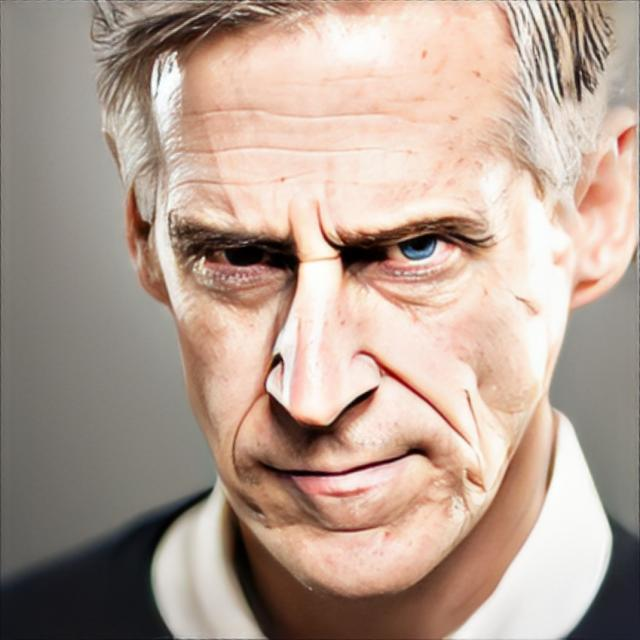anger: (150, 34, 554, 602)
